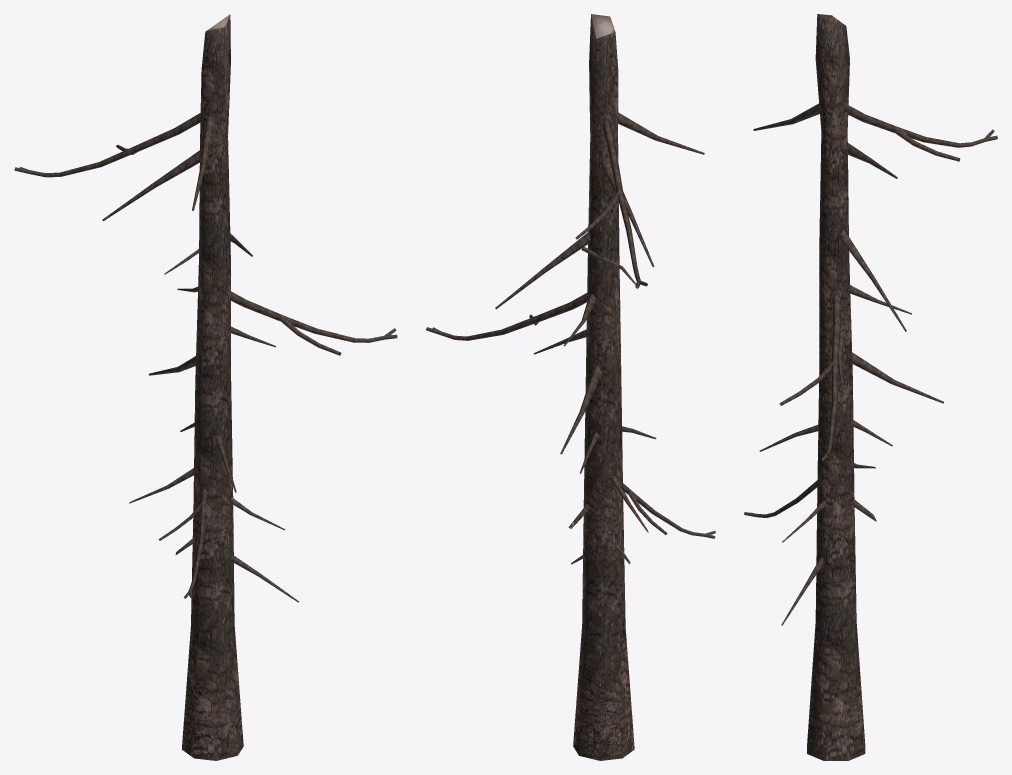
Rendered from tree_07.glb.
The picture shows the model from 3 angles, left to right: view 1: azimuth 30°, elevation 25°; view 2: azimuth 150°, elevation 25°; view 3: azimuth 270°, elevation 25°; orthographic projection.
Visible parts, largest first — view 1: Object_23; view 2: Object_23; view 3: Object_23.
Part boxes in pixels (bbox=[...]): Object_23: bbox=[14, 14, 397, 760]; Object_23: bbox=[426, 14, 715, 760]; Object_23: bbox=[744, 14, 997, 760].
Size of the model in its own units: 4.16 by 9.64 by 3.
1 material, 1 textured.
